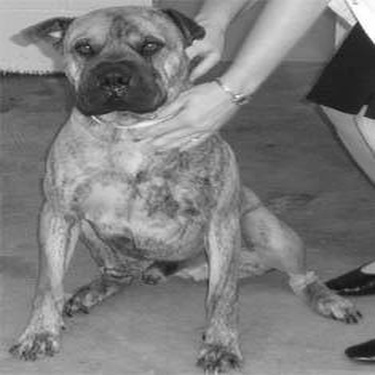dog: (8, 1, 365, 374)
